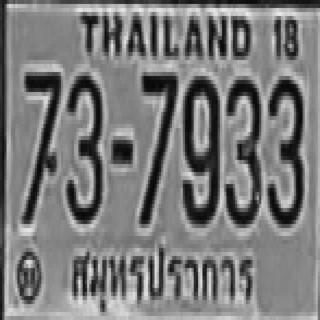N03: (266, 72, 302, 224), (224, 76, 259, 224), (65, 72, 100, 220)
N07: (139, 68, 176, 224), (22, 68, 59, 220)
N09: (181, 72, 218, 220)
P57: (68, 242, 261, 313)
